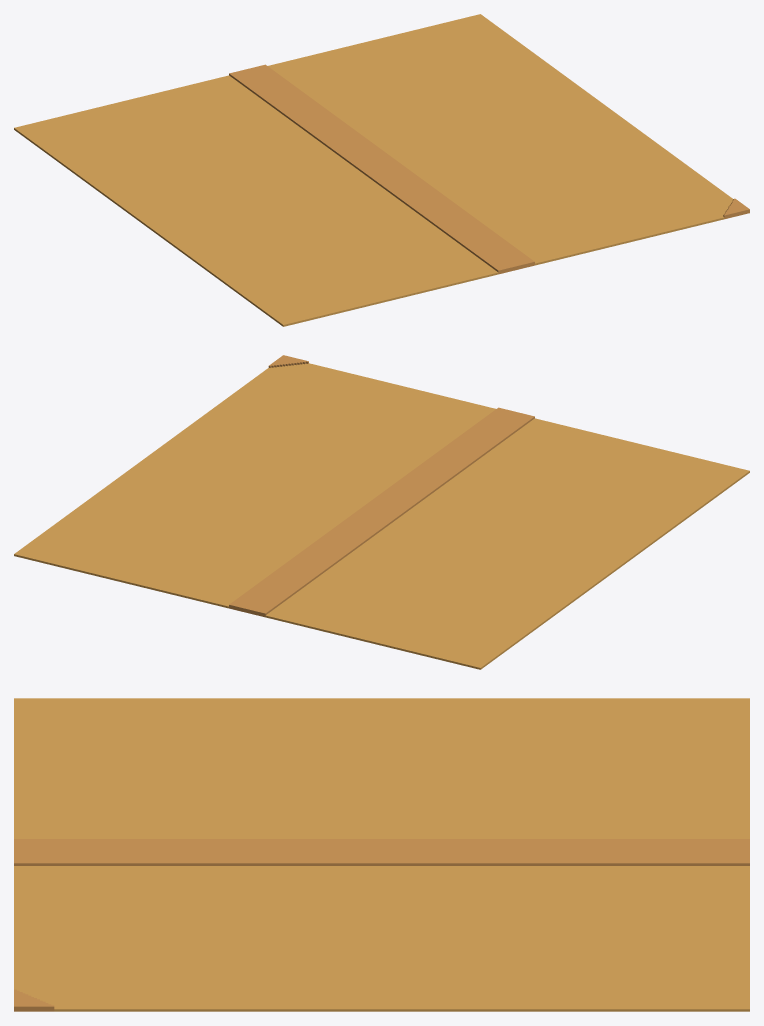
File: shadow-6.obj
3 renders of one model, top to bottom at view 1: azimuth 30°, elevation 25°; view 2: azimuth 150°, elevation 25°; view 3: azimuth 270°, elevation 25°, orthographic. The views are drawn at different scales.
Bounding box in the file's own units: 25.6 × 0.2 × 25.6.
1 material, 1 textured.
